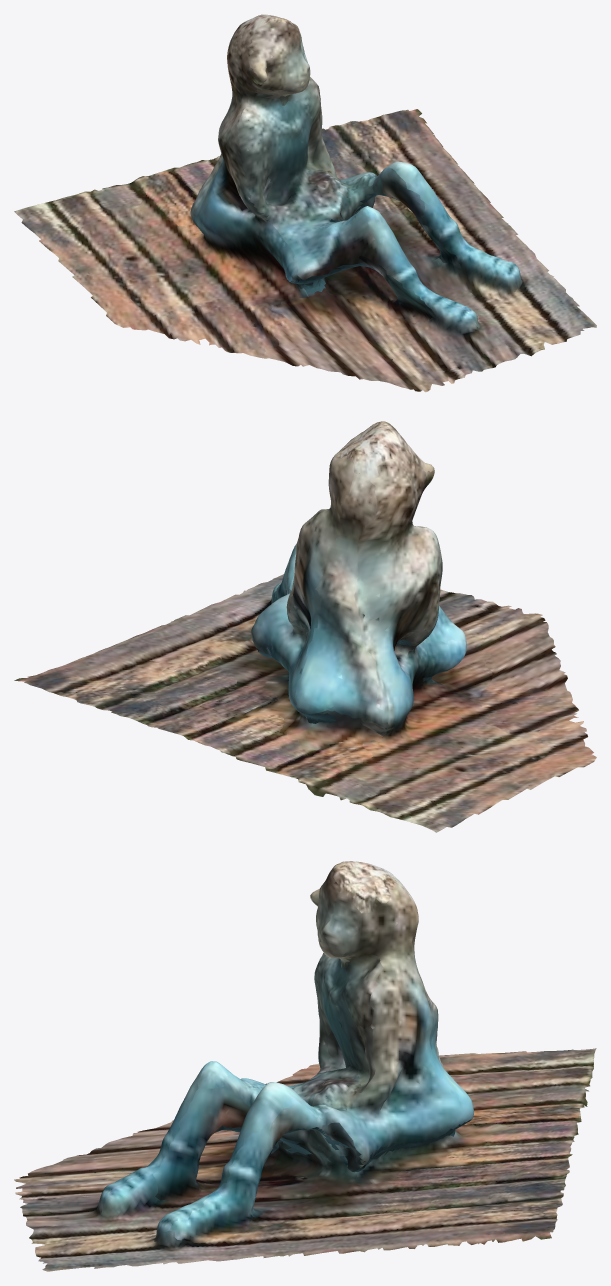
File: blauweElf.glb
3 renders of one model, top to bottom at view 1: azimuth 30°, elevation 25°; view 2: azimuth 150°, elevation 25°; view 3: azimuth 270°, elevation 25°, orthographic. The views are drawn at different scales.
Visible parts, largest first — view 1: blauweElf; view 2: blauweElf; view 3: blauweElf.
Boxes of the visible parts, bbox=[...] form: blauweElf: bbox=[14, 14, 596, 392]; blauweElf: bbox=[14, 421, 596, 832]; blauweElf: bbox=[14, 861, 596, 1271].
Bounding box in the file's own units: 22.74 × 14.66 × 24.7.
Materials: 1 (1 with a texture image).
